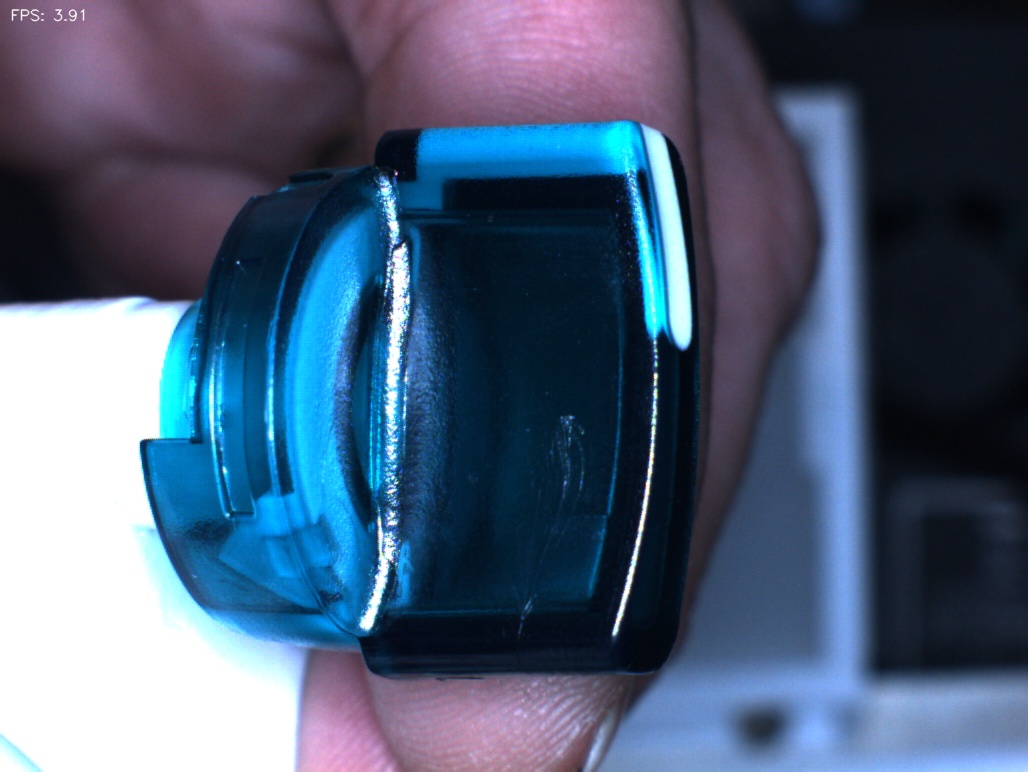Givrage: (495, 405, 592, 633)
